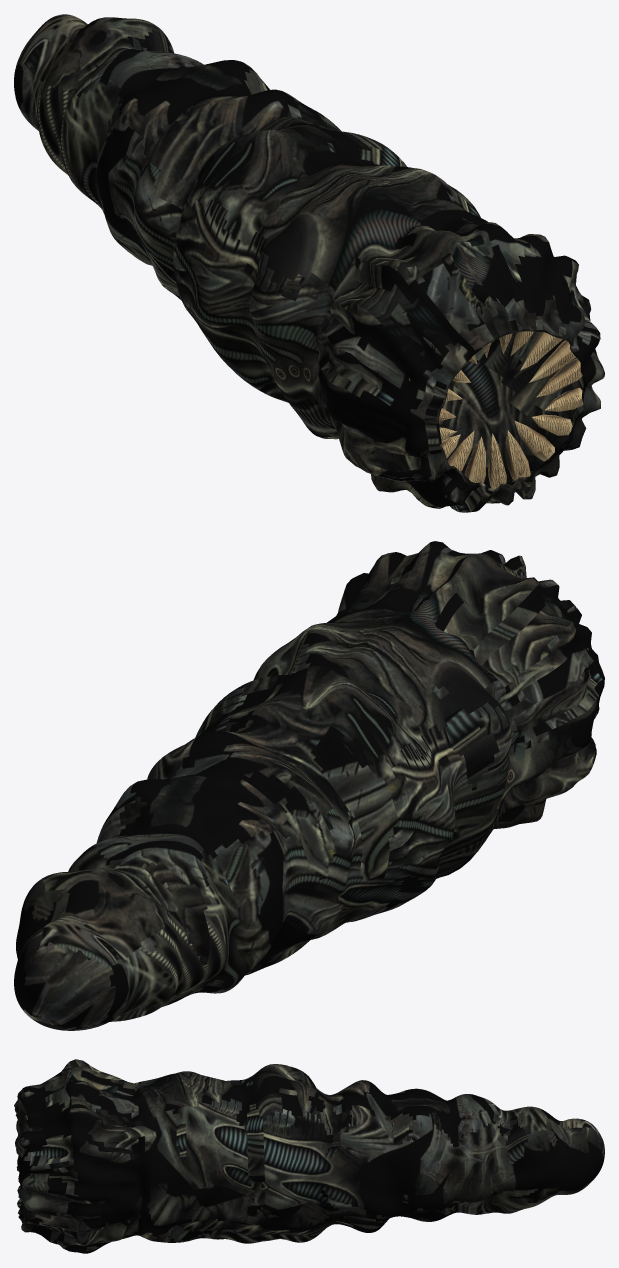
Rendered from worm.gltf.
3 views of the same model, one above another, from view 1: azimuth 30°, elevation 25°; view 2: azimuth 150°, elevation 25°; view 3: azimuth 270°, elevation 25° (orthographic). The views are drawn at different scales.
Visible parts, largest first — view 1: Cylinder.002; view 2: Cylinder.002; view 3: Cylinder.002.
Part boxes in pixels (left/top/right/bottom): Cylinder.002: left=14, top=14, right=604, bottom=512; Cylinder.002: left=14, top=541, right=604, bottom=1030; Cylinder.002: left=14, top=1059, right=604, bottom=1253.
Size of the model in its own units: 1.72 by 1.7 by 5.34.
Materials: 2 (2 with a texture image).
